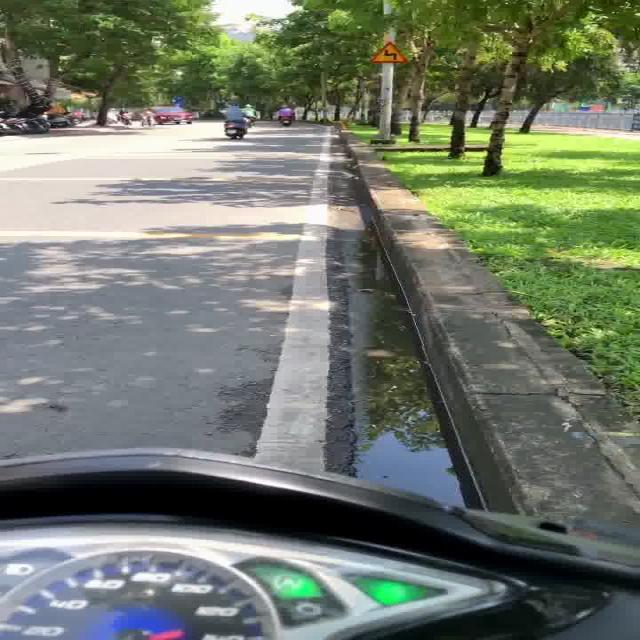Bien bao nhieu cho ngoat nguy hiem lien tiep: (364, 38, 412, 65)
